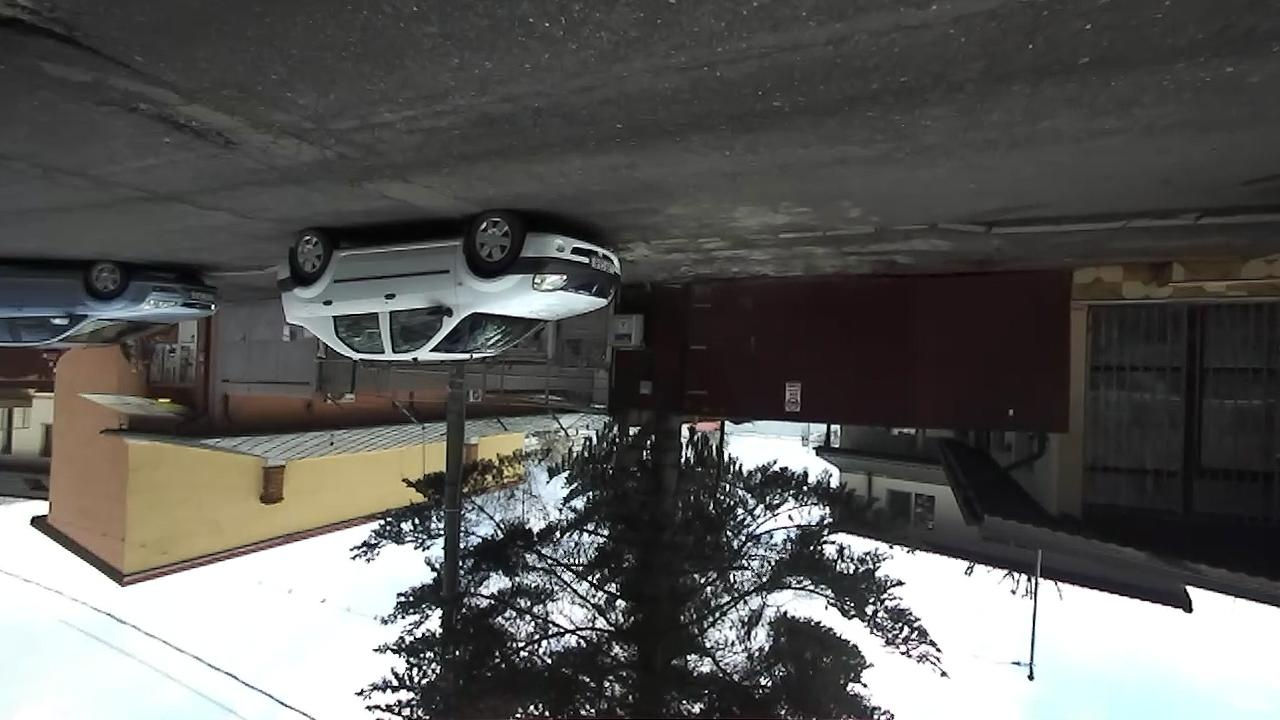pothole: (0, 1, 156, 81), (105, 85, 244, 158)
